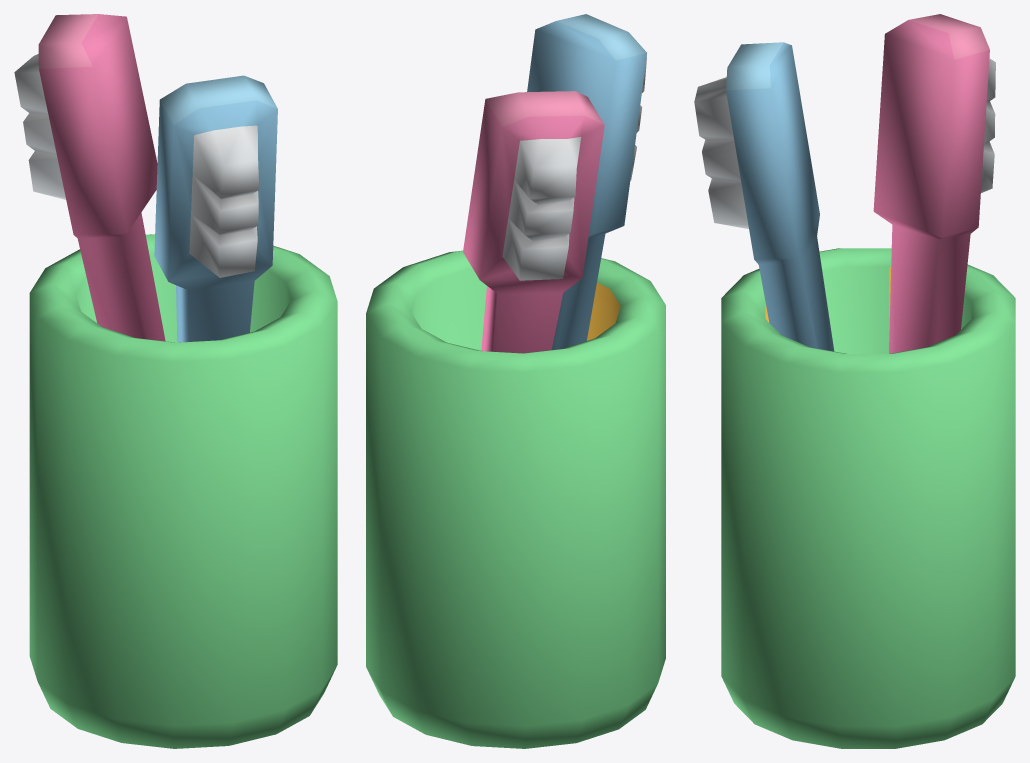
The model's file is higiene_bucal.glb.
3 renders of one model, left to right at view 1: azimuth 30°, elevation 25°; view 2: azimuth 150°, elevation 25°; view 3: azimuth 270°, elevation 25°, orthographic. The views are drawn at different scales.
Parts seen in each view (by area): view 1: toothbrush_cup_decorated; view 2: toothbrush_cup_decorated; view 3: toothbrush_cup_decorated.
Boxes of the visible parts, box(x1,y1,x2,y2) form: toothbrush_cup_decorated: box(14, 14, 337, 748); toothbrush_cup_decorated: box(366, 14, 665, 748); toothbrush_cup_decorated: box(694, 14, 1015, 748).
Bounding box in the file's own units: 0.288 × 0.7016 × 0.3145.
Materials: 2 (1 with a texture image).
